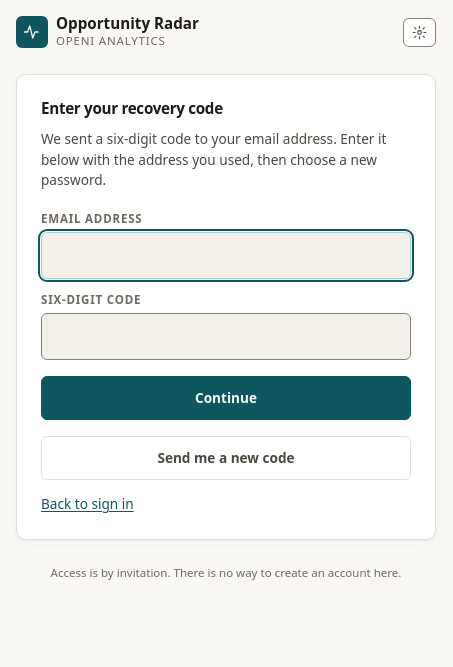
the code page grants nothing without the right code › does not send an obviously malformed code to the provider at all
Expected: the heading "Enter your recovery code" is shown, [41,98,223,118]
Type "analyst@openi-analytics.invalid" into the field labelled "Email address" at (226,256), box [41,232,411,279]
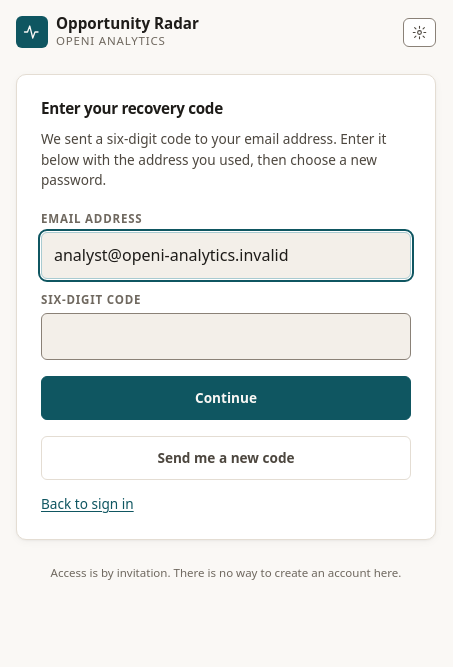
Type "12" into the field labelled "Six-digit code" at (226,336), box [41,313,411,360]
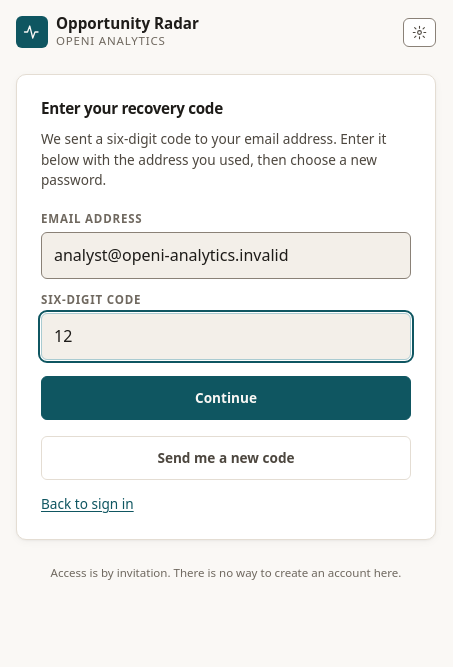
Click the button "Continue" at (226,398), box [41,376,411,420]
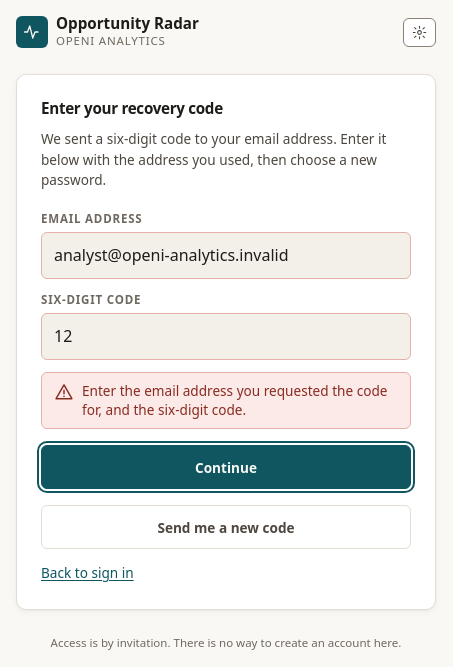
Expected: the message "Enter the email address you requested the code for, and the six-digit code." is shown, [41,372,411,429]
